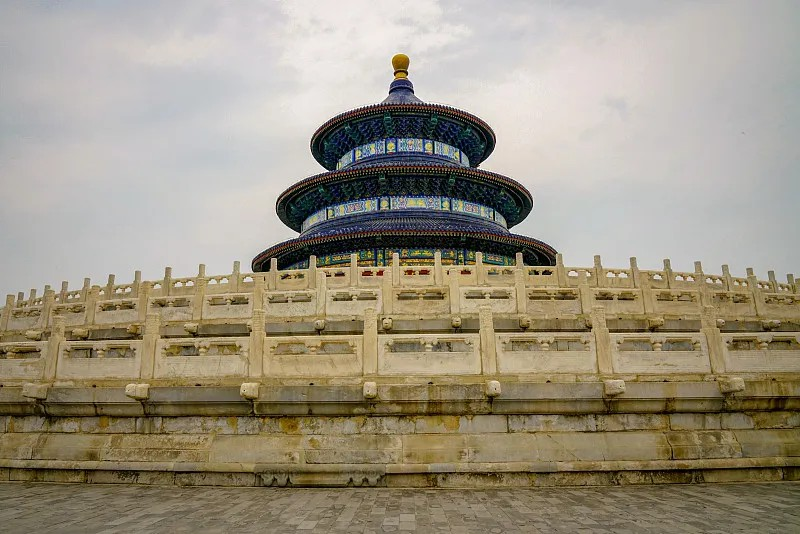Heaven: (252, 55, 565, 278)
